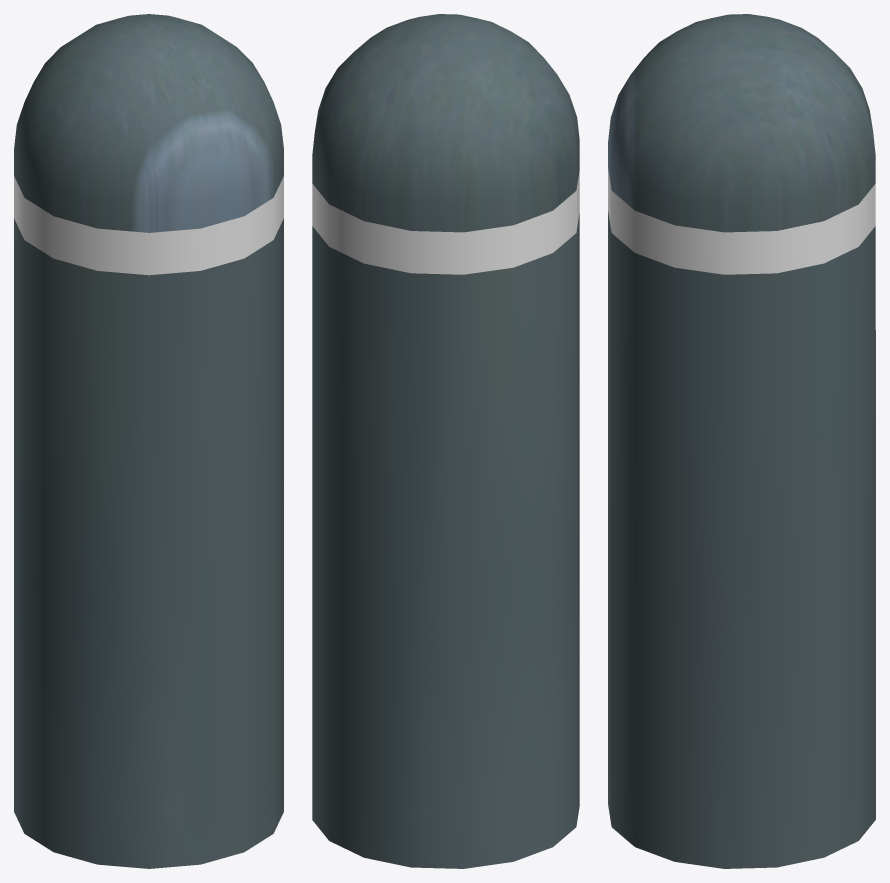
The picture shows the model from 3 angles, left to right: view 1: azimuth 30°, elevation 25°; view 2: azimuth 150°, elevation 25°; view 3: azimuth 270°, elevation 25°; orthographic projection.
Visible parts, largest first — view 1: Joint_0_Object_1, Joint_0_Object_0; view 2: Joint_0_Object_1, Joint_0_Object_0; view 3: Joint_0_Object_1, Joint_0_Object_0.
Boxes of the visible parts, x1,y1,x2,y2 form: Joint_0_Object_1: [14, 14, 283, 868]; Joint_0_Object_0: [14, 176, 283, 275]; Joint_0_Object_1: [312, 14, 579, 868]; Joint_0_Object_0: [312, 171, 579, 274]; Joint_0_Object_1: [608, 14, 875, 868]; Joint_0_Object_0: [608, 169, 875, 274].
Bounding box in the file's own units: 247 × 799 × 247.
